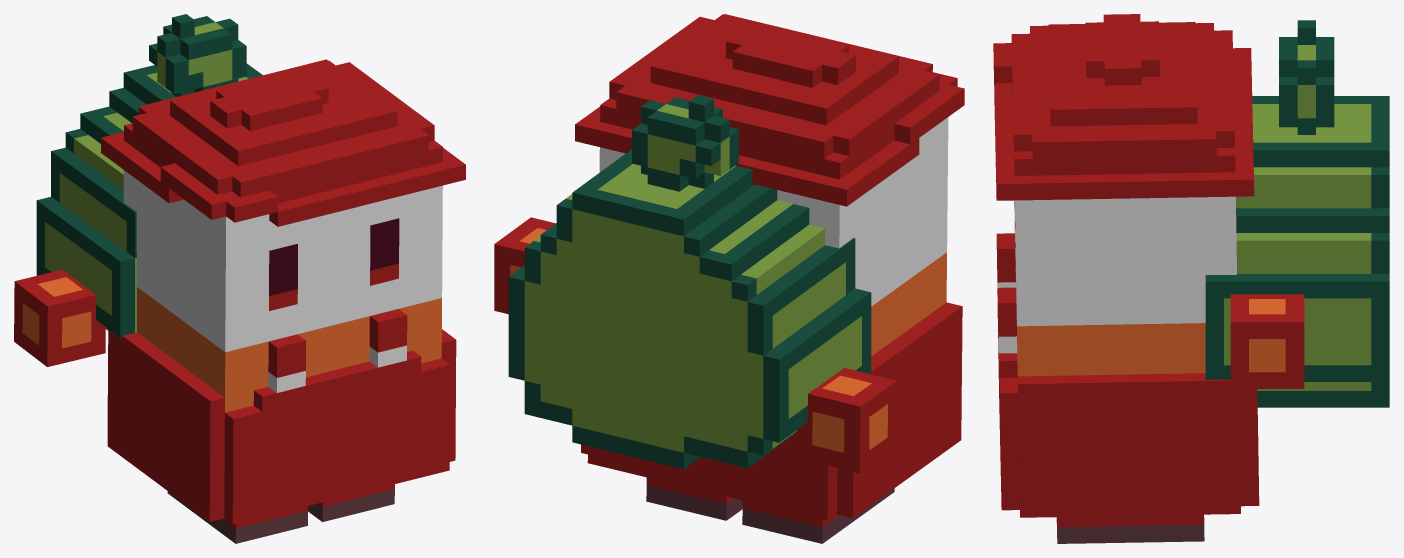
The model's file is p4SegHoldDizzy.gltf.
3 views of the same model, side by side, from view 1: azimuth 30°, elevation 25°; view 2: azimuth 150°, elevation 25°; view 3: azimuth 270°, elevation 25° (orthographic). The views are drawn at different scales.
Parts seen in each view (by area): view 1: Yup2Zup.001; view 2: Yup2Zup.001; view 3: Yup2Zup.001.
Part boxes in pixels (x1,y1,x2,y2): Yup2Zup.001: (14, 14, 465, 543); Yup2Zup.001: (494, 14, 964, 543); Yup2Zup.001: (993, 14, 1389, 543).
Size of the model in its own units: 2.39 by 2.8 by 2.15.
Materials: 4 (4 with a texture image).
